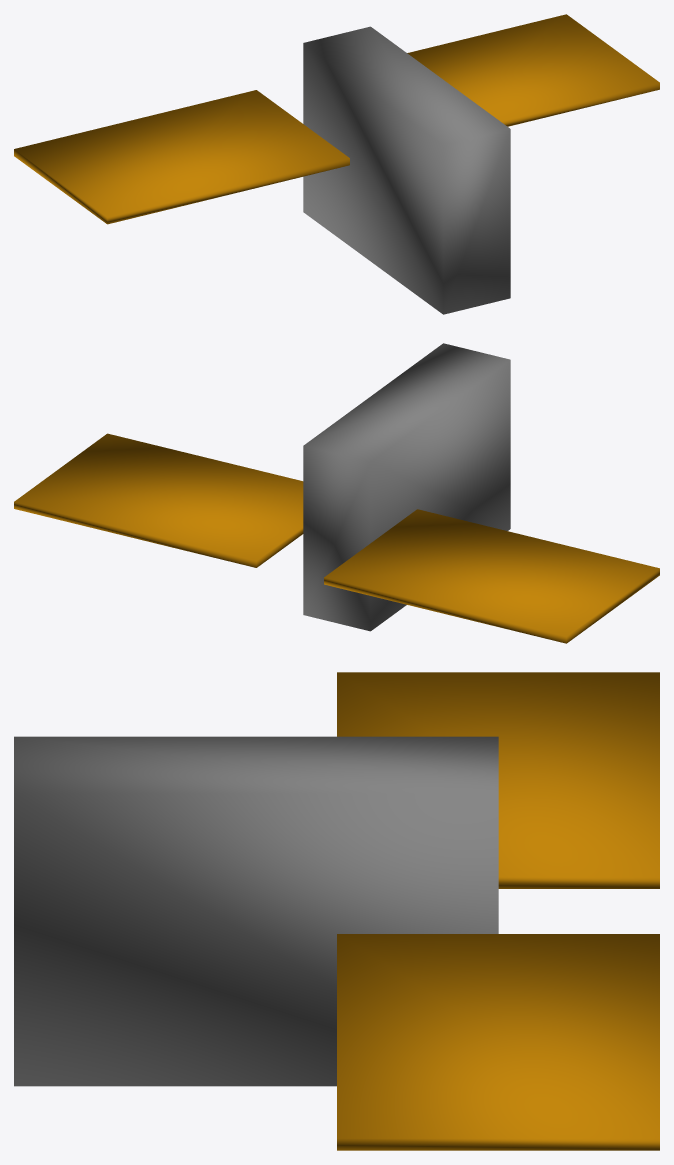
The model's file is CubeSat.obj.
3 renders of one model, top to bottom at view 1: azimuth 30°, elevation 25°; view 2: azimuth 150°, elevation 25°; view 3: azimuth 270°, elevation 25°, orthographic. The views are drawn at different scales.
Parts seen in each view (by area): view 1: Part__Feature, Part__Feature002, Part__Feature001; view 2: Part__Feature, Part__Feature002, Part__Feature001; view 3: Part__Feature, Part__Feature001, Part__Feature002.
Part boxes in pixels (x1,y1,x2,y2): Part__Feature: [303, 26, 510, 314]; Part__Feature002: [14, 90, 349, 224]; Part__Feature001: [407, 14, 659, 126]; Part__Feature: [303, 343, 510, 631]; Part__Feature002: [324, 509, 659, 643]; Part__Feature001: [14, 433, 303, 567]; Part__Feature: [14, 736, 498, 1086]; Part__Feature001: [337, 934, 659, 1150]; Part__Feature002: [337, 672, 659, 888].
Size of the model in its own units: 82 by 24 by 48.
